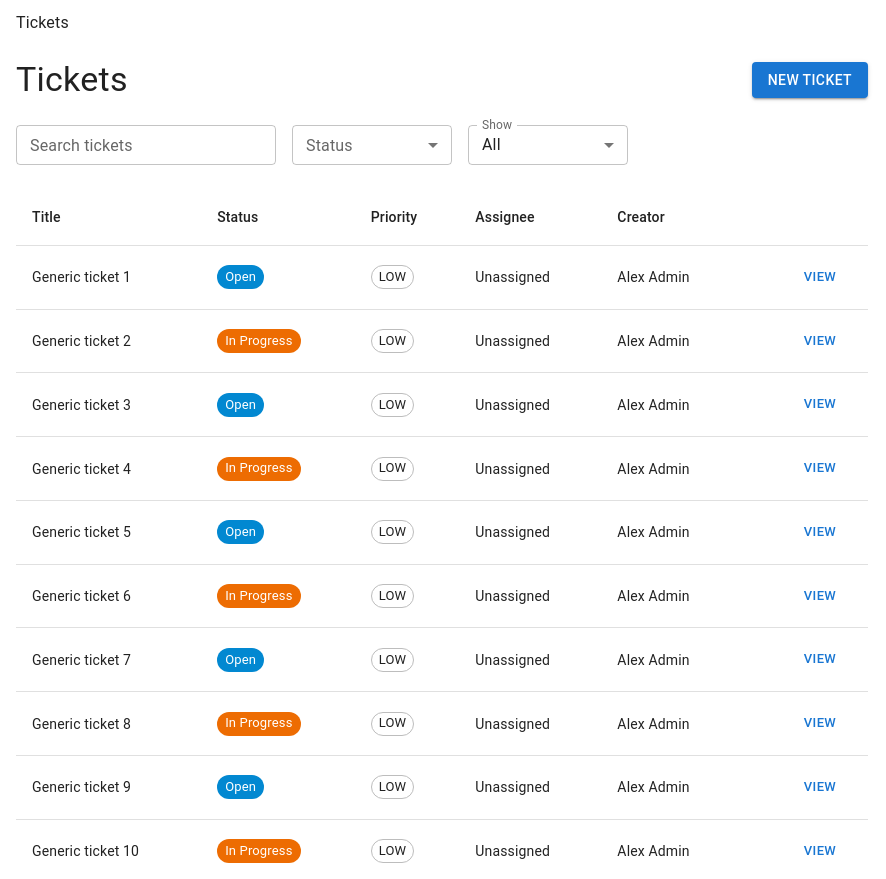
Test: Search and filter tickets › narrows the list to tickets in the selected status (FR-008)
Expected: the text "Generic ticket 1" is shown, [16,246,201,309]
What coordinates should you click on to do the following:
click the dropdown named "status"
I would click on:
 (372, 145)
Its box is [292,125,452,165].
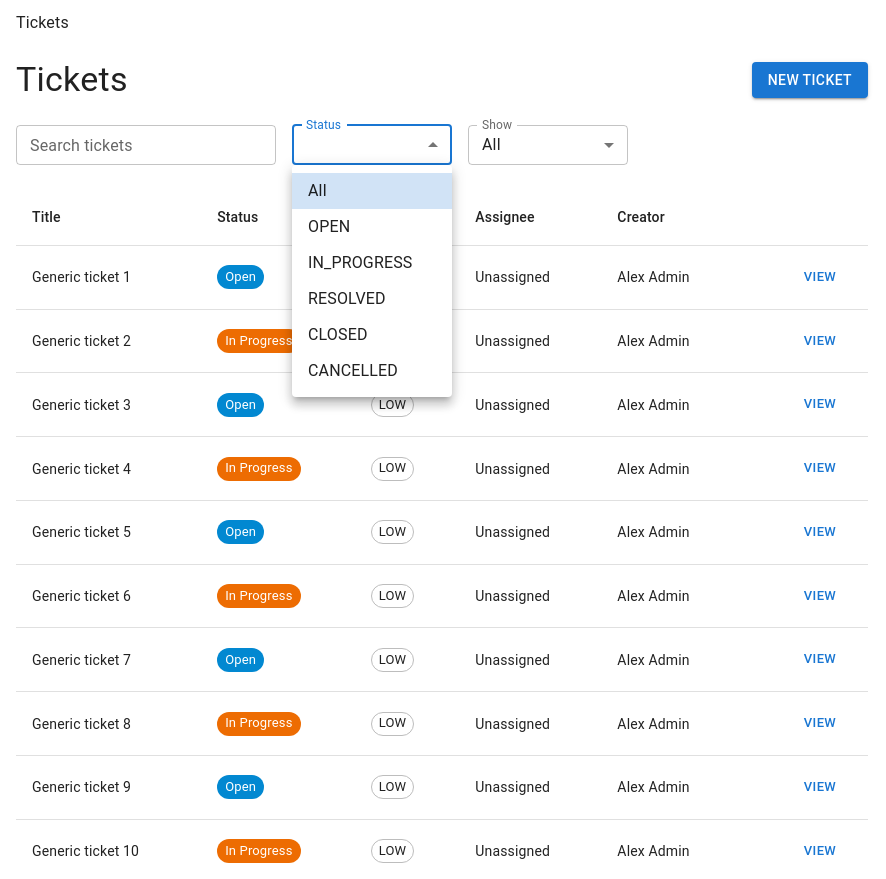
What coordinates should you click on to do the following:
click the option "IN_PROGRESS"
I would click on:
 (360, 262)
Its box is [308,253,412,272].
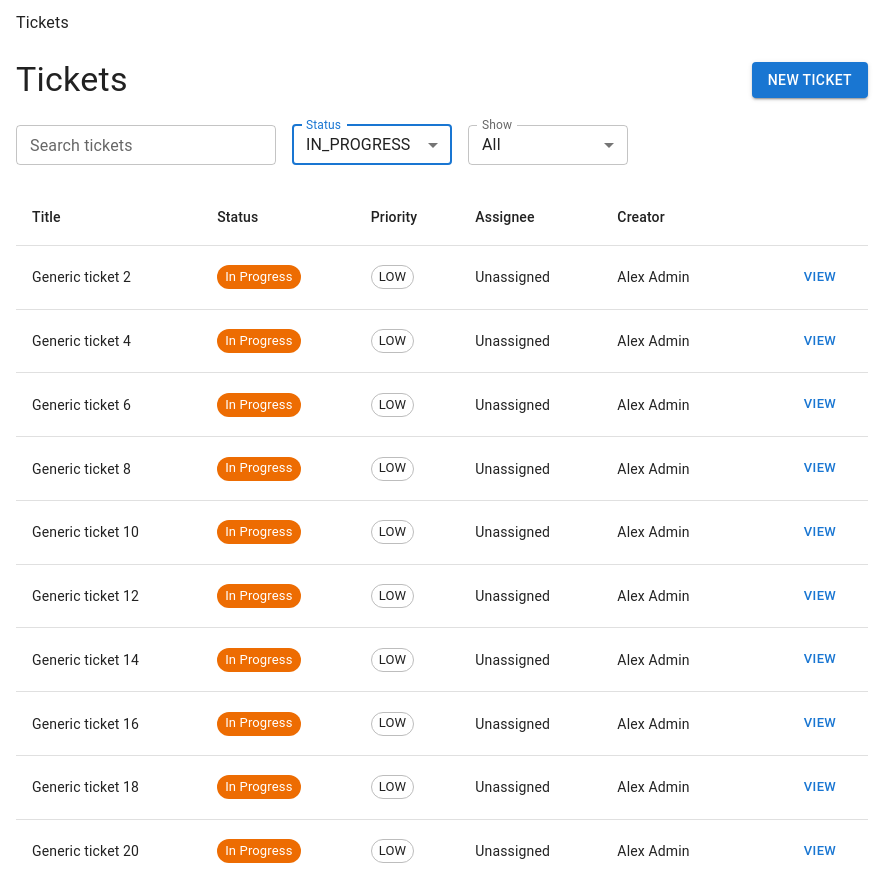
Expected: the text "Generic ticket 2" is shown, [16,246,201,309]
